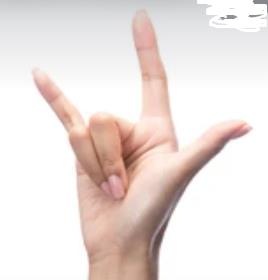back: (33, 7, 265, 256)
